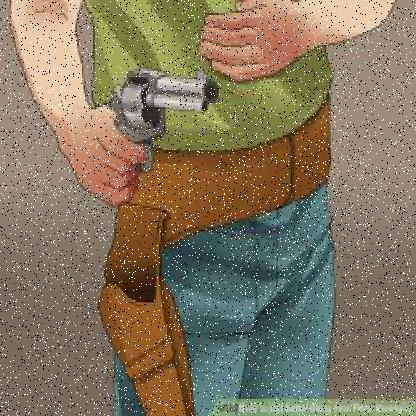pistol: (100, 62, 222, 174)
